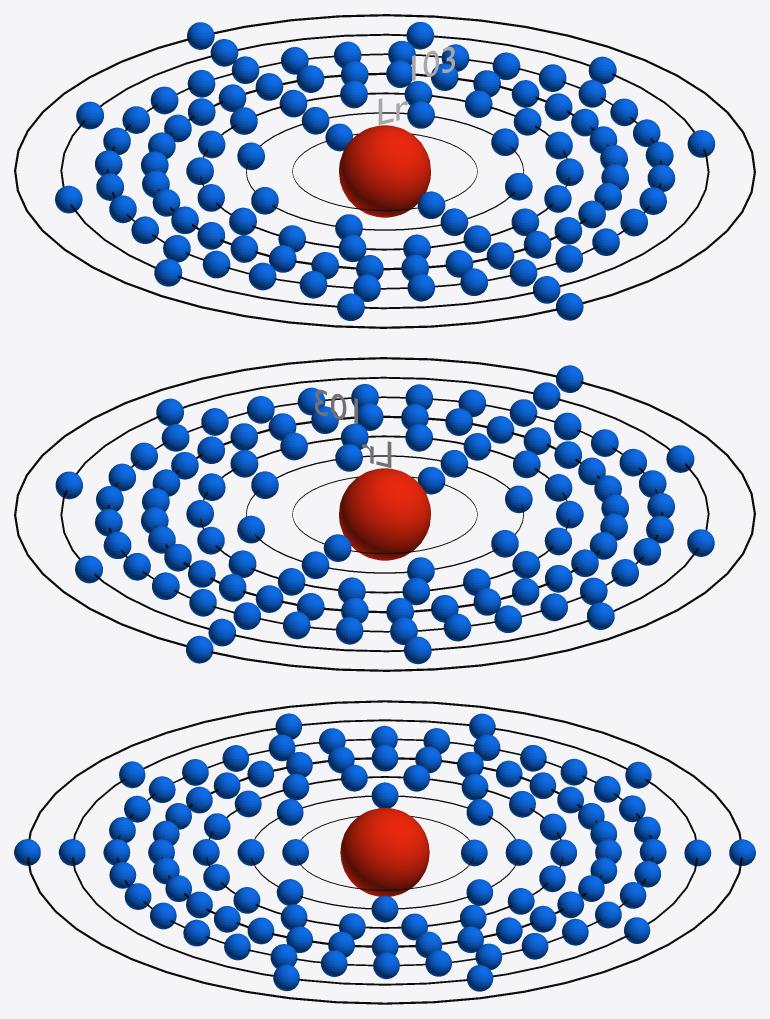
3 renders of one model, top to bottom at view 1: azimuth 30°, elevation 25°; view 2: azimuth 150°, elevation 25°; view 3: azimuth 270°, elevation 25°, orthographic. The views are drawn at different scales.
Visible parts, largest first — view 1: Lr5, Lr4, Lr3, Proton, Lr6, Lr2, n7, n6, Lr7, n5, Lr1, n3 (+2 smaller); view 2: Lr5, Lr4, Lr3, Proton, Lr6, Lr2, n7, n6, n5, Lr7, Lr1, n3 (+2 smaller); view 3: Lr5, Lr4, Lr3, Proton, Lr6, Lr2, n7, n6, n5, Lr1, Lr7, n3 (+2 smaller).
Part boxes in pixels (<box>): Lr5: <box>95,41,675,301</box>; Lr4: <box>141,60,628,280</box>; Lr3: <box>186,80,583,261</box>; Proton: <box>339,125,430,217</box>; Lr6: <box>55,22,715,320</box>; Lr2: <box>237,101,532,239</box>; n7: <box>14,14,755,328</box>; n6: <box>60,33,709,309</box>; Lr7: <box>187,22,583,320</box>; n5: <box>106,53,661,289</box>; Lr1: <box>325,123,445,218</box>; n3: <box>200,92,569,250</box>; Lr5: <box>95,384,674,644</box>; Lr4: <box>141,403,628,623</box>; Lr3: <box>186,423,583,605</box>; Proton: <box>339,468,430,560</box>; Lr6: <box>55,382,714,664</box>; Lr2: <box>237,444,532,582</box>; n7: <box>14,357,755,671</box>; n6: <box>60,376,709,652</box>; n5: <box>107,396,663,632</box>; Lr7: <box>186,365,583,663</box>; Lr1: <box>323,467,445,561</box>; n3: <box>200,435,569,593</box>; Lr5: <box>103,725,666,979</box>; Lr4: <box>148,744,621,957</box>; Lr3: <box>193,764,576,940</box>; Proton: <box>340,808,429,896</box>; Lr6: <box>58,713,711,991</box>; Lr2: <box>237,782,532,922</box>; n7: <box>27,700,742,1004</box>; n6: <box>72,719,697,985</box>; n5: <box>117,738,652,966</box>; Lr1: <box>282,839,487,866</box>; Lr7: <box>14,839,755,865</box>; n3: <box>206,776,563,928</box>.
Bounding box in the file's own units: 802 × 180 × 830.
